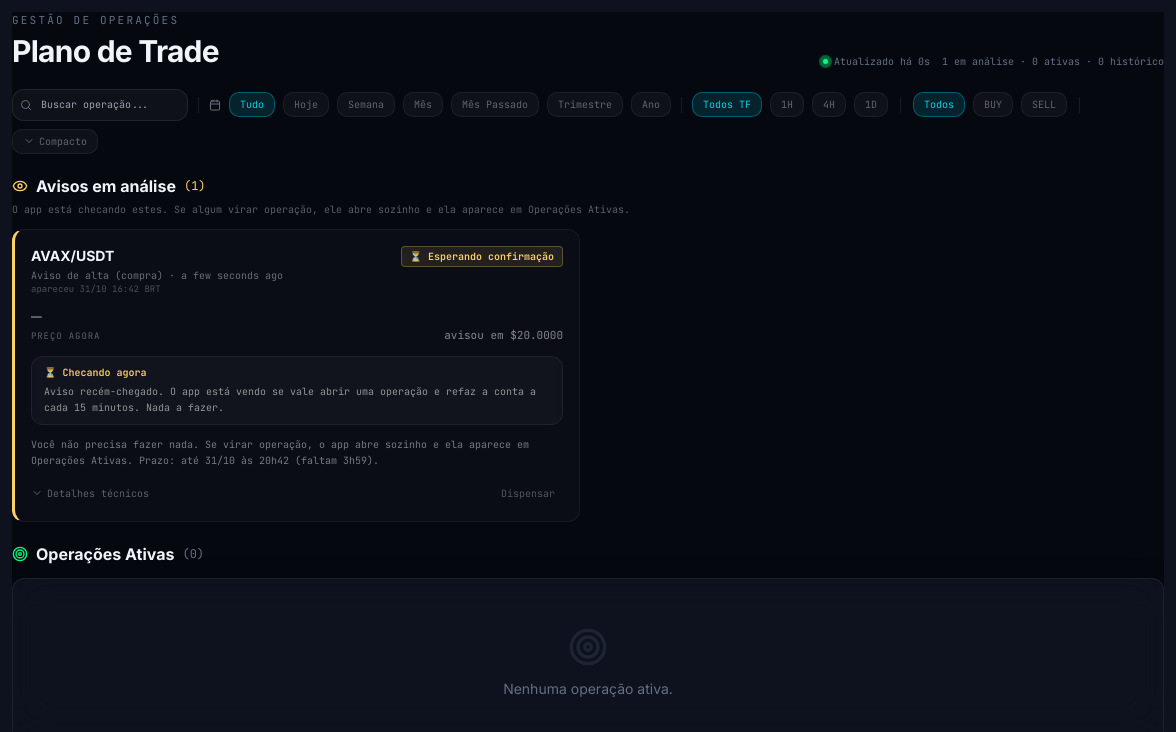
it: Trades — ScoreBar de "Avisos em análise" omite score falso quando context.score está ausente (Auditoria do Telegram, item 1.11) › sinal com score real continua mostrando a ScoreBar
Expected: the text "AVAX/USDT" is shown, [31,246,114,264]
Click the button "Compacto".
click(55, 141)  # box [12,128,98,154]
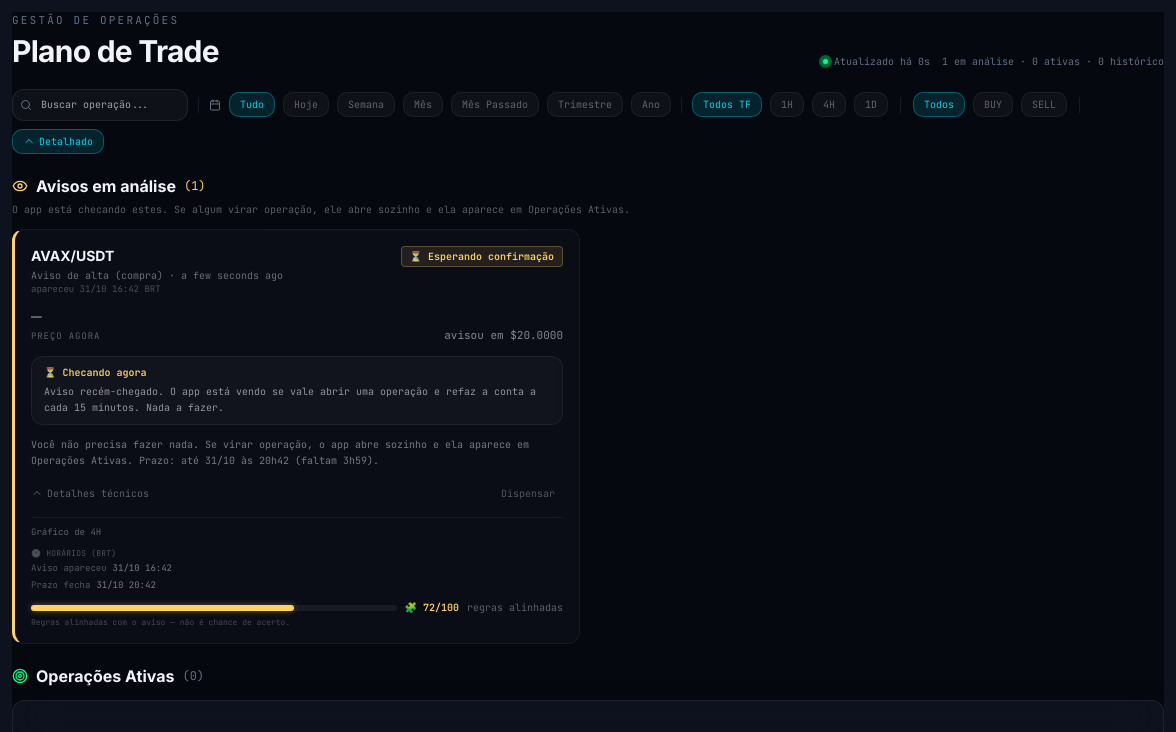
Result: the text "🧩 72/100" is shown at [404,600,459,615]
